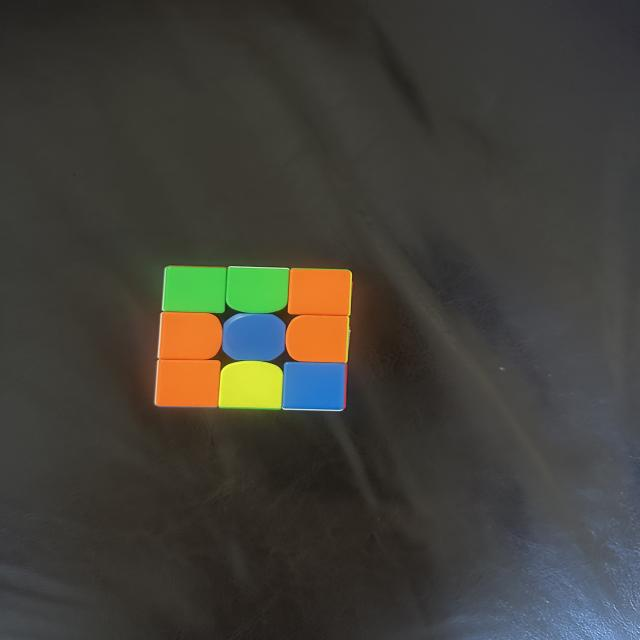sticker: (157, 311, 224, 362), (154, 358, 222, 408), (281, 361, 347, 412), (221, 312, 287, 363), (286, 268, 353, 318), (218, 360, 283, 411), (162, 266, 228, 316), (285, 314, 350, 364), (224, 266, 290, 315)
